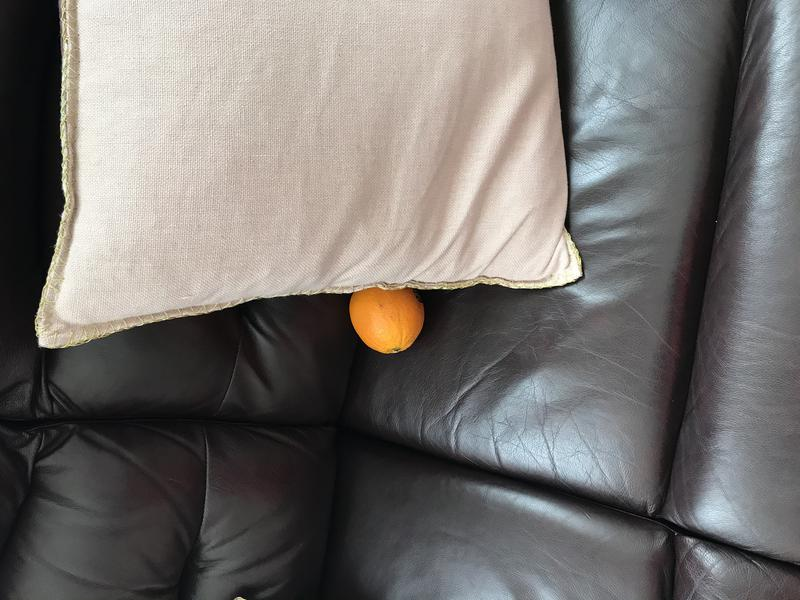orange: (339, 275, 432, 358)
